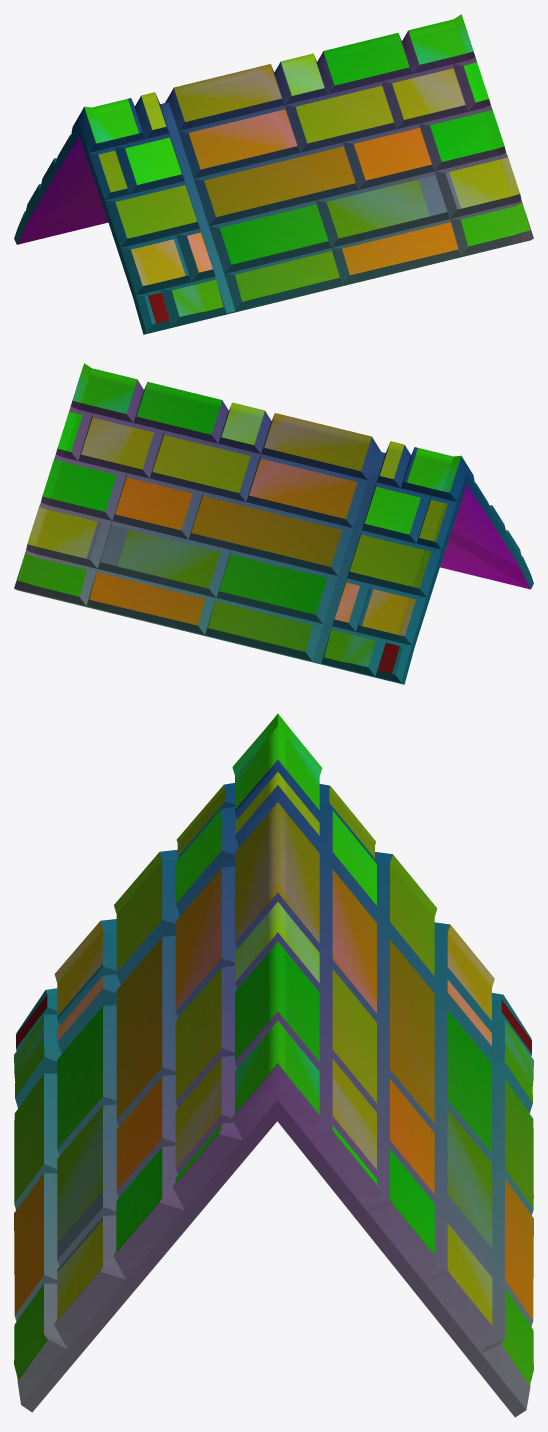
The model's file is HouseUpperRoofTop.fbx.
3 renders of one model, top to bottom at view 1: azimuth 30°, elevation 25°; view 2: azimuth 150°, elevation 25°; view 3: azimuth 270°, elevation 25°, orthographic. The views are drawn at different scales.
Parts seen in each view (by area): view 1: HouseRoof; view 2: HouseRoof; view 3: HouseRoof.
Part boxes in pixels (x1,y1,x2,y2): HouseRoof: (14, 14, 533, 334); HouseRoof: (14, 363, 533, 684); HouseRoof: (14, 713, 533, 1417).
Size of the model in its own units: 78.24 by 35.28 by 47.64.
